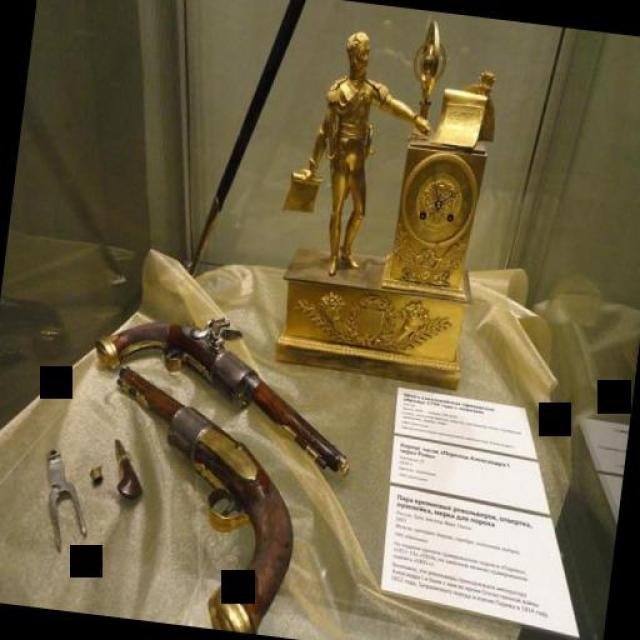gun: (86, 358, 325, 638), (81, 295, 366, 475)
